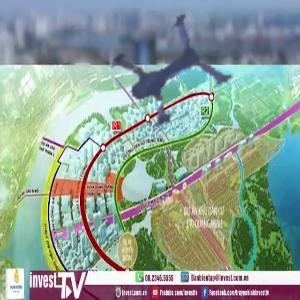drone: (87, 10, 230, 153)
